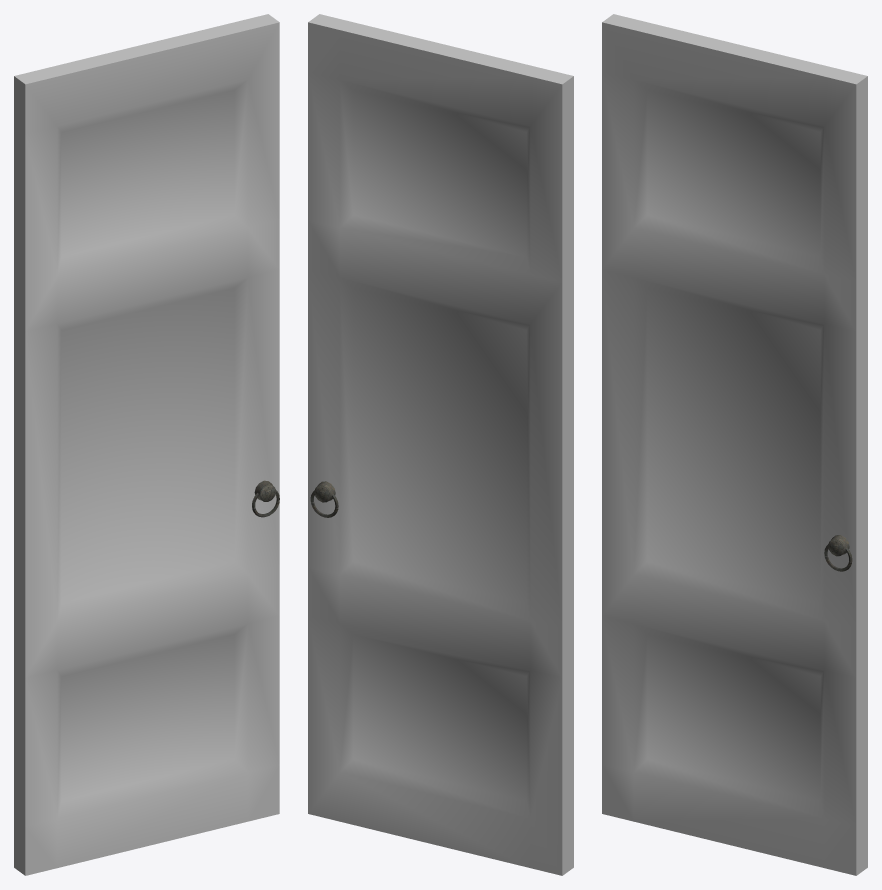
The model's file is DoorL.fbx.
The picture shows the model from 3 angles, left to right: view 1: azimuth 30°, elevation 25°; view 2: azimuth 150°, elevation 25°; view 3: azimuth 330°, elevation 25°; orthographic projection.
Visible parts, largest first — view 1: doorLeft; view 2: doorLeft; view 3: doorLeft.
Boxes of the visible parts, <box> form: doorLeft: <box>14,14,279,875</box>; doorLeft: <box>308,14,573,875</box>; doorLeft: <box>602,14,867,875</box>.
Bounding box in the file's own units: 99.4 × 296 × 14.22.
